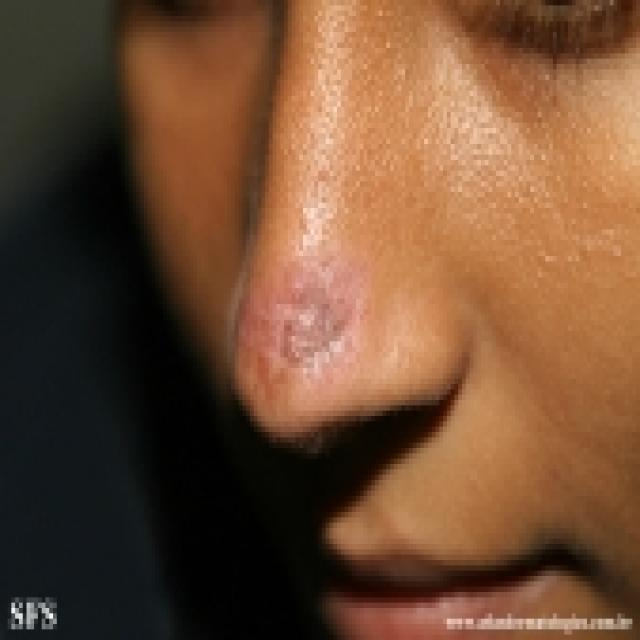lupus: (230, 224, 382, 394)
